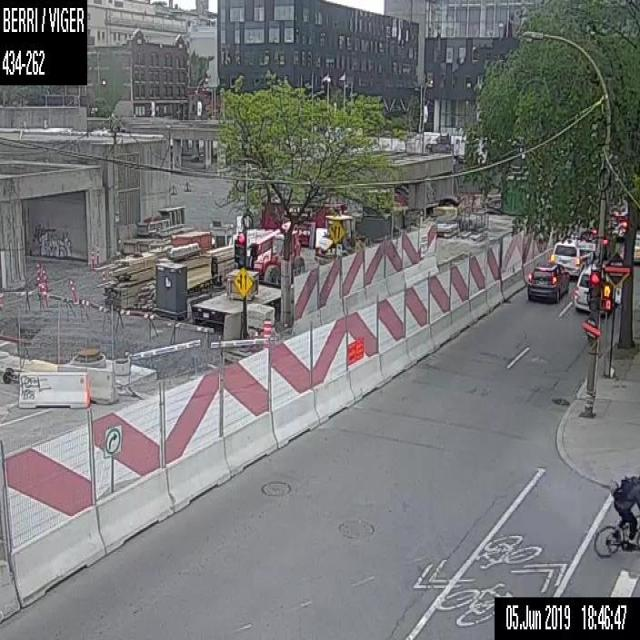construction: (0, 96, 561, 625), (262, 317, 272, 348)
cyclist: (593, 473, 639, 558)
vehicle: (526, 260, 569, 303), (550, 236, 593, 277), (574, 264, 596, 312)
